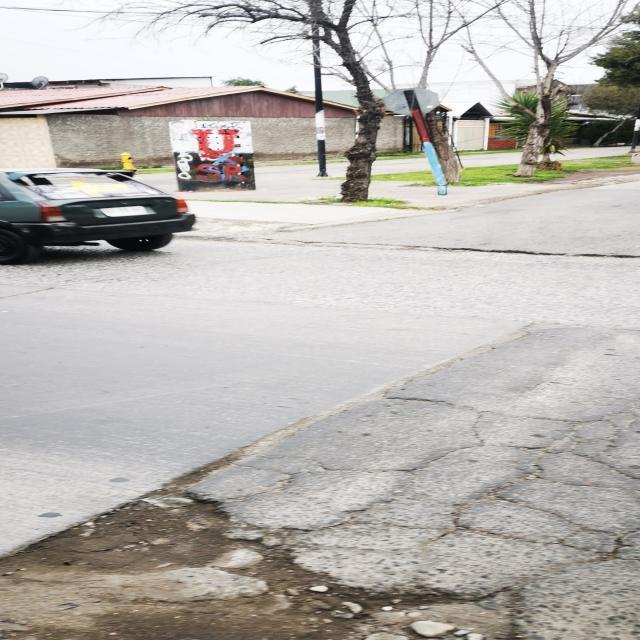BACHE: (0, 479, 518, 639)
GRIETA: (176, 319, 554, 486), (304, 241, 639, 259)
PARCHE: (389, 327, 614, 411)
PIEL DE COCODRILO: (186, 394, 639, 596)
